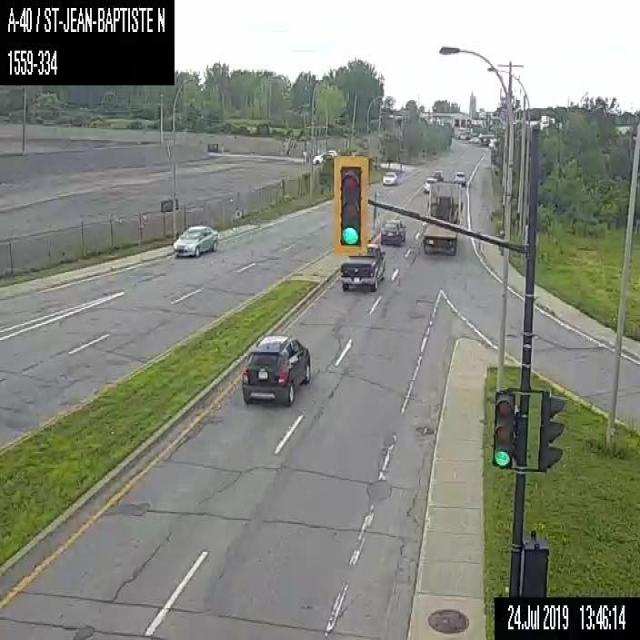vehicle: (241, 334, 311, 406), (422, 181, 465, 253), (339, 242, 385, 291), (173, 223, 218, 256), (380, 219, 406, 245), (312, 148, 338, 165), (423, 176, 437, 191), (382, 170, 397, 184), (452, 169, 465, 185), (432, 170, 442, 180)
